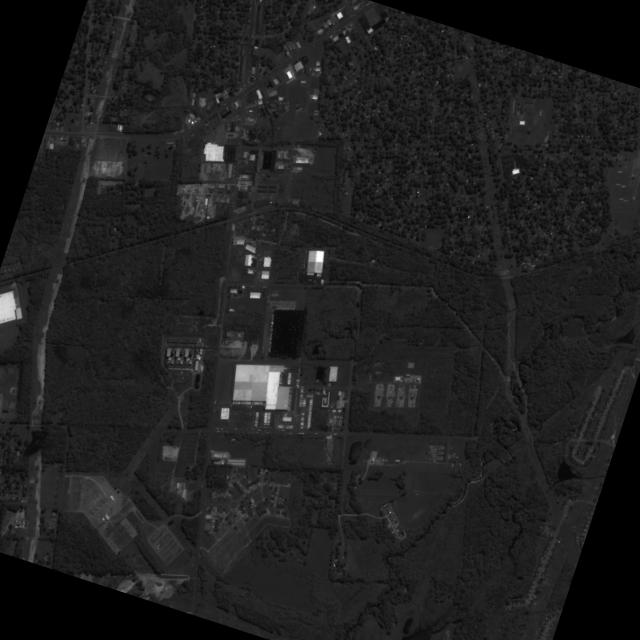storage-tank: (242, 284, 245, 288), (200, 348, 203, 351), (200, 351, 203, 354), (417, 377, 420, 380), (408, 377, 410, 380)
